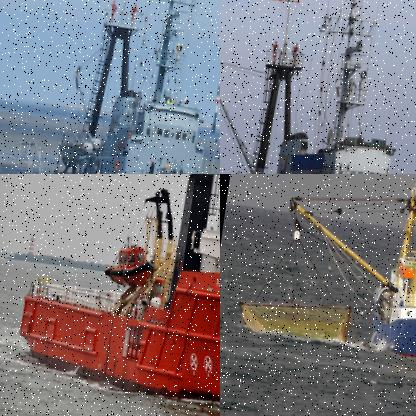Fishing Boat: (272, 174, 415, 376)
Merchant Ship: (12, 174, 219, 415)
Military Ship: (0, 0, 219, 173), (220, 0, 415, 173)
